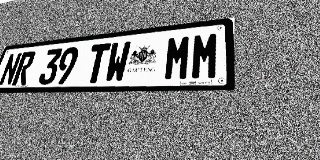3: (37, 48, 63, 85)
9: (54, 46, 80, 84)
M: (190, 31, 220, 80), (163, 34, 192, 81)
N: (0, 52, 22, 86)
R: (11, 51, 36, 85)
T: (84, 43, 111, 83)
W: (104, 41, 131, 83)
